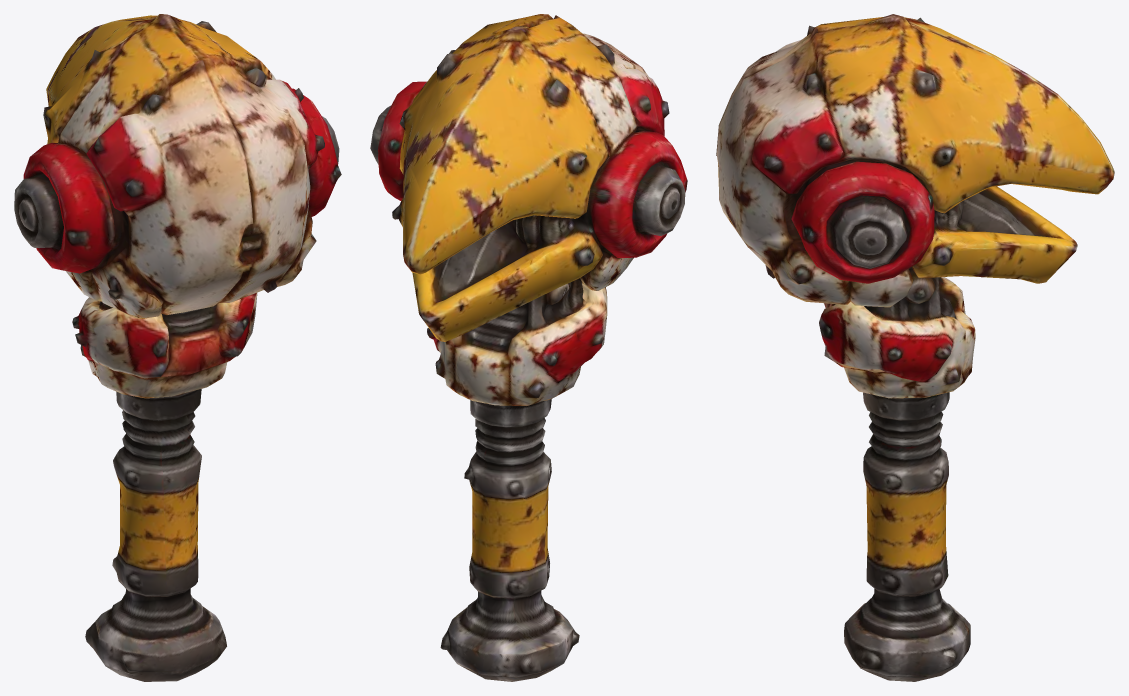
The model's file is roger-beak-lance.glb.
3 views of the same model, side by side, from view 1: azimuth 30°, elevation 25°; view 2: azimuth 150°, elevation 25°; view 3: azimuth 270°, elevation 25° (orthographic). The views are drawn at different scales.
Visible parts, largest first — view 1: model; view 2: model; view 3: model.
Part boxes in pixels (x1=…): model: x1=14, y1=14, x2=341, y2=681; model: x1=370, y1=14, x2=687, y2=681; model: x1=716, y1=14, x2=1114, y2=681.
Size of the model in its own units: 0.4888 by 0.9999 by 0.5579.
1 material, 1 textured.
